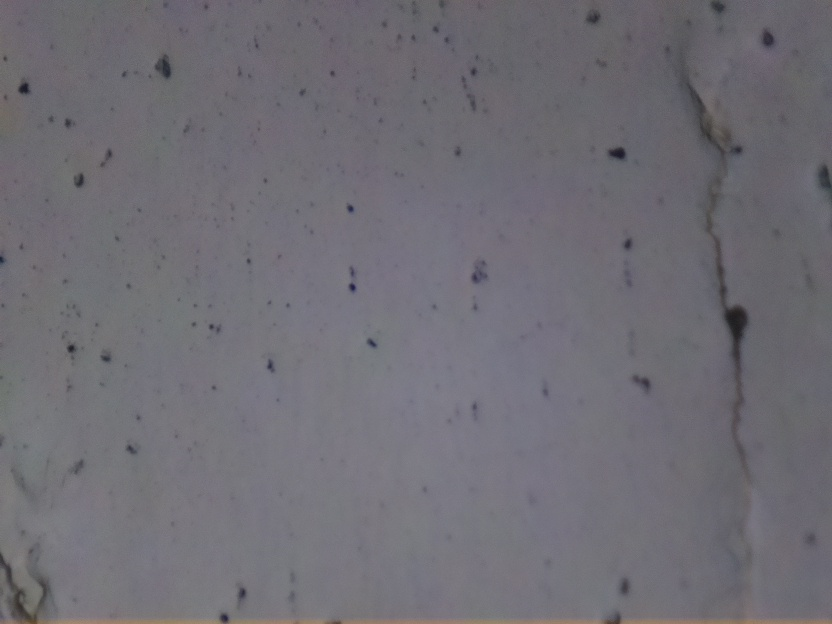crack: (681, 64, 758, 474)
